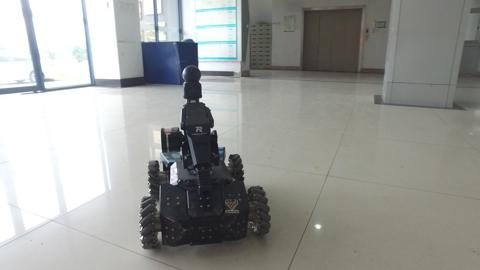chariot: (123, 61, 287, 256)
